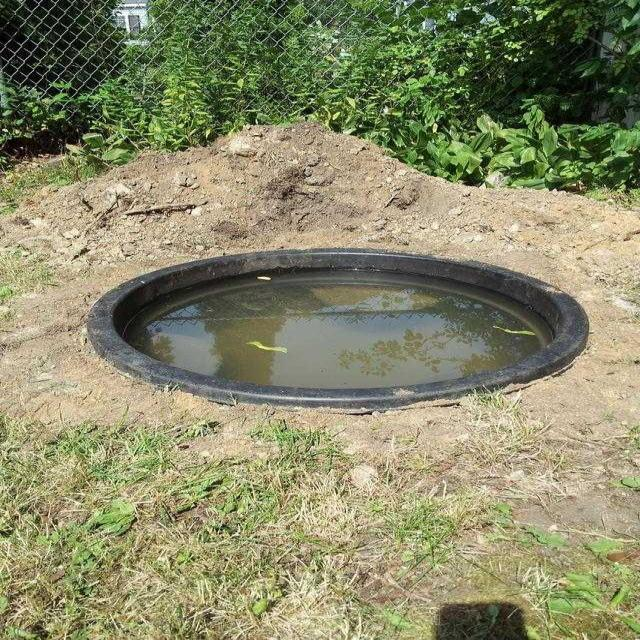Ponds: (80, 250, 599, 412)
